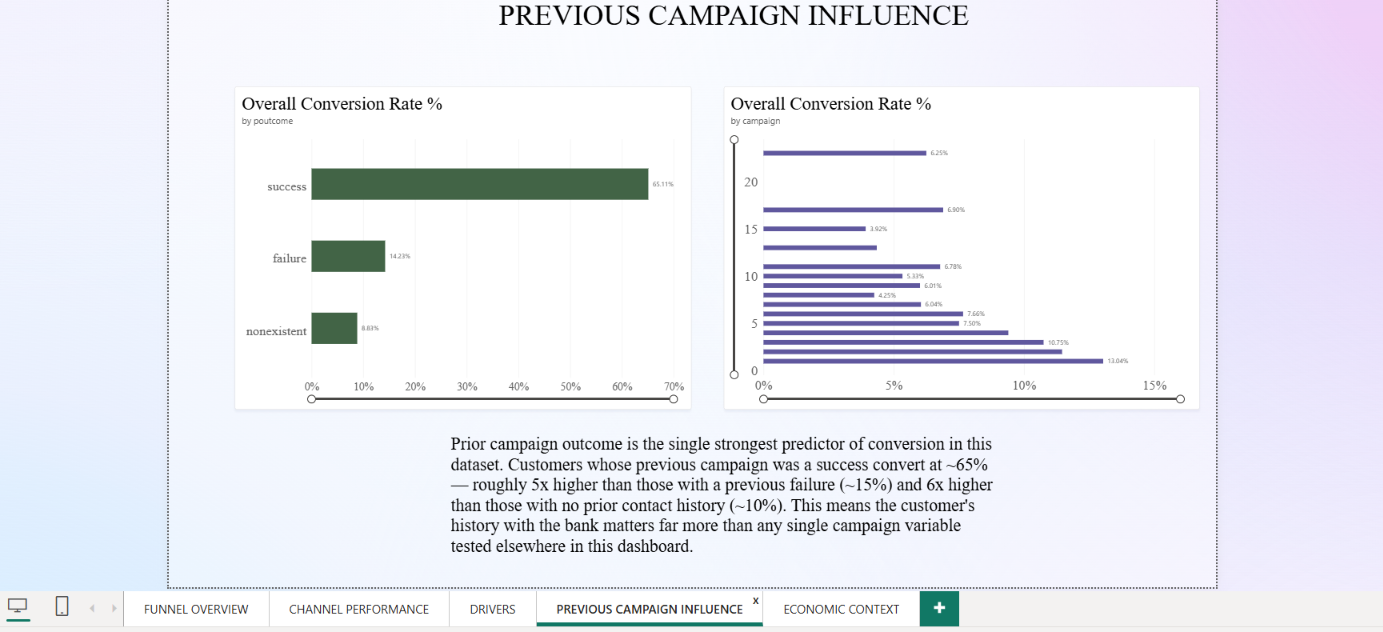

What the dashboard file says about the page in this screenshot:
{"tool":"powerbi","page":{"name":"PREVIOUS CAMPAIGN INFLUENCE","canvas":[1920,1080],"ordinal":3},"visuals":[{"type":"barChart","fields":{"Category":["cleaned_bank_marketing.poutcome"],"Y":["channel_summary.Overall Conversion Rate %"]},"box":[121.4,160.5,837.7,592.8],"z":0},{"type":"barChart","fields":{"Category":["cleaned_bank_marketing.campaign"],"Y":["channel_summary.Overall Conversion Rate %"]},"box":[1018.9,160.5,872.7,592.8],"z":1},{"type":"textbox","box":[516.6,798.6,1004.5,282],"z":2},{"type":"textbox","box":[605.1,0,916,115.3],"z":3}]}

Visuals, with their boxes on the page's 1920x1080 design canvas (x1, y1, x2, y2). These are canvas units, not pixel positions in the 1383x632 screenshot, which may show the page scaled, cropped or inside an application window:
barChart - cleaned_bank_marketing.poutcome x channel_summary.Overall Conversion Rate %: detection(121, 160, 959, 753)
barChart - cleaned_bank_marketing.campaign x channel_summary.Overall Conversion Rate %: detection(1019, 160, 1892, 753)
textbox: detection(517, 799, 1521, 1081)
textbox: detection(605, 0, 1521, 115)
